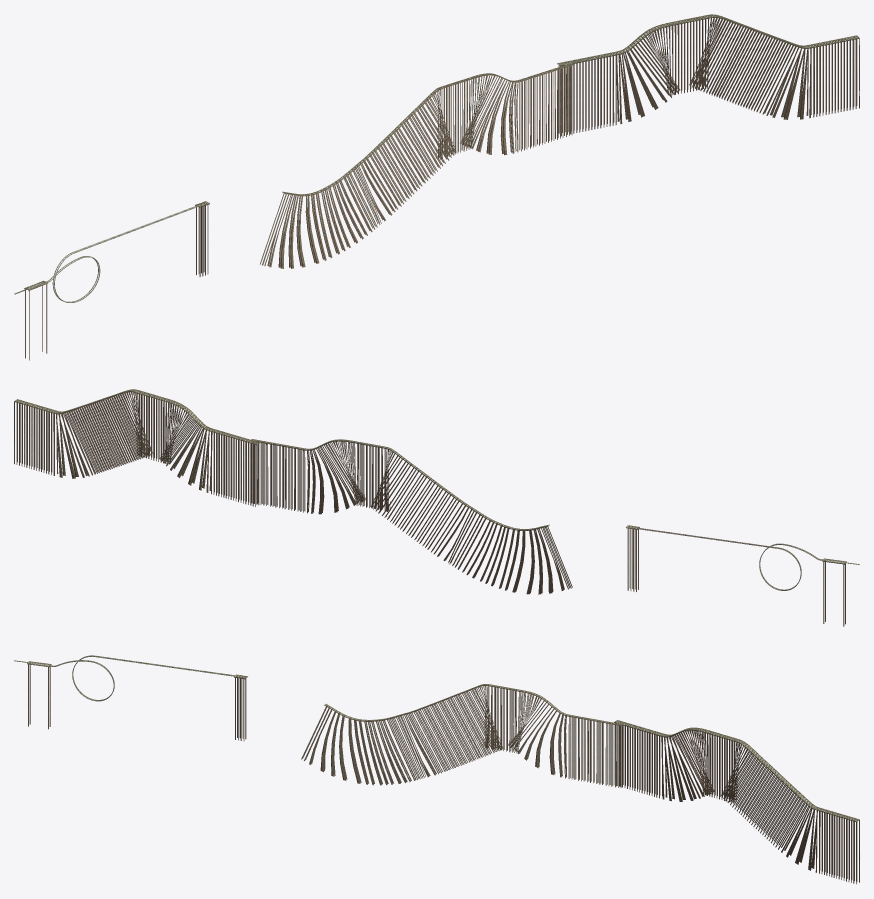
The model's file is boss 1.fbx.
3 views of the same model, one above another, from view 1: azimuth 30°, elevation 25°; view 2: azimuth 150°, elevation 25°; view 3: azimuth 330°, elevation 25° (orthographic). The views are drawn at different scales.
Visible parts, largest first — view 1: ramp.003, ramp.001, ramp.002, pipe; view 2: ramp.001, ramp.003, ramp.002, pipe; view 3: ramp.003, ramp.001, ramp.002, pipe, RAMP..012.
Boxes of the visible parts, <box> form: ramp.003: <box>260,63,573,268</box>; ramp.001: <box>557,14,859,135</box>; ramp.002: <box>195,201,209,276</box>; pipe: <box>46,205,197,302</box>; ramp.001: <box>14,389,259,506</box>; ramp.003: <box>251,439,572,594</box>; ramp.002: <box>626,525,639,591</box>; pipe: <box>638,528,823,590</box>; ramp.003: <box>301,684,622,787</box>; ramp.001: <box>614,720,859,884</box>; ramp.002: <box>234,674,247,740</box>; pipe: <box>50,655,235,701</box>; RAMP..012: <box>27,661,51,729</box>.
Bounding box in the file's own units: 30909 × 4505 × 3973.
